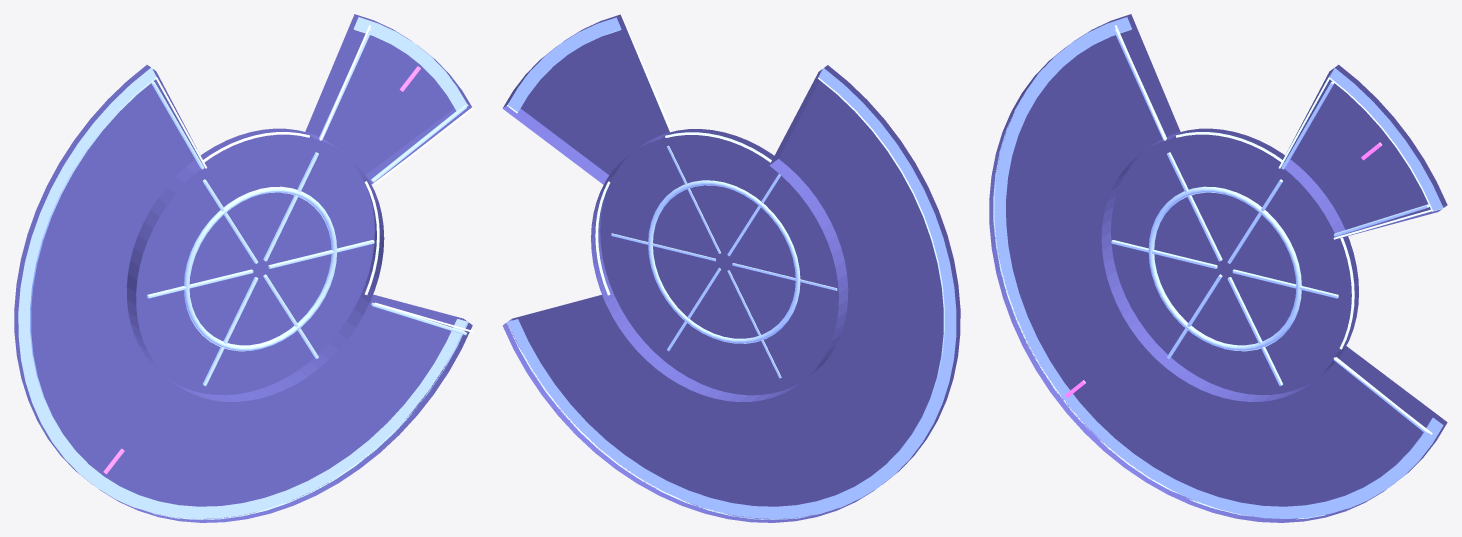
The model's file is prism-panel-fun5-high.glb.
The picture shows the model from 3 angles, left to right: view 1: azimuth 30°, elevation 25°; view 2: azimuth 150°, elevation 25°; view 3: azimuth 330°, elevation 25°; orthographic projection.
Visible parts, largest first — view 1: RENDER_PANEL_SHELL, RENDER_PANEL_FRAME, RENDER_PANEL_SIGNAL; view 2: RENDER_PANEL_SHELL, RENDER_PANEL_FRAME, RENDER_PANEL_SIGNAL; view 3: RENDER_PANEL_SHELL, RENDER_PANEL_FRAME, RENDER_PANEL_SIGNAL.
Boxes of the visible parts, <box> form: RENDER_PANEL_SHELL: <box>14,14,472,522</box>; RENDER_PANEL_FRAME: <box>18,17,468,519</box>; RENDER_PANEL_SIGNAL: <box>155,25,473,332</box>; RENDER_PANEL_SHELL: <box>502,14,960,522</box>; RENDER_PANEL_FRAME: <box>507,17,956,519</box>; RENDER_PANEL_SIGNAL: <box>595,14,834,295</box>; RENDER_PANEL_SHELL: <box>989,14,1447,522</box>; RENDER_PANEL_FRAME: <box>993,17,1443,519</box>; RENDER_PANEL_SIGNAL: <box>1114,25,1432,434</box>.
Size of what is drawn, in the model's own units: 38.91 by 38.91 by 1.95.
